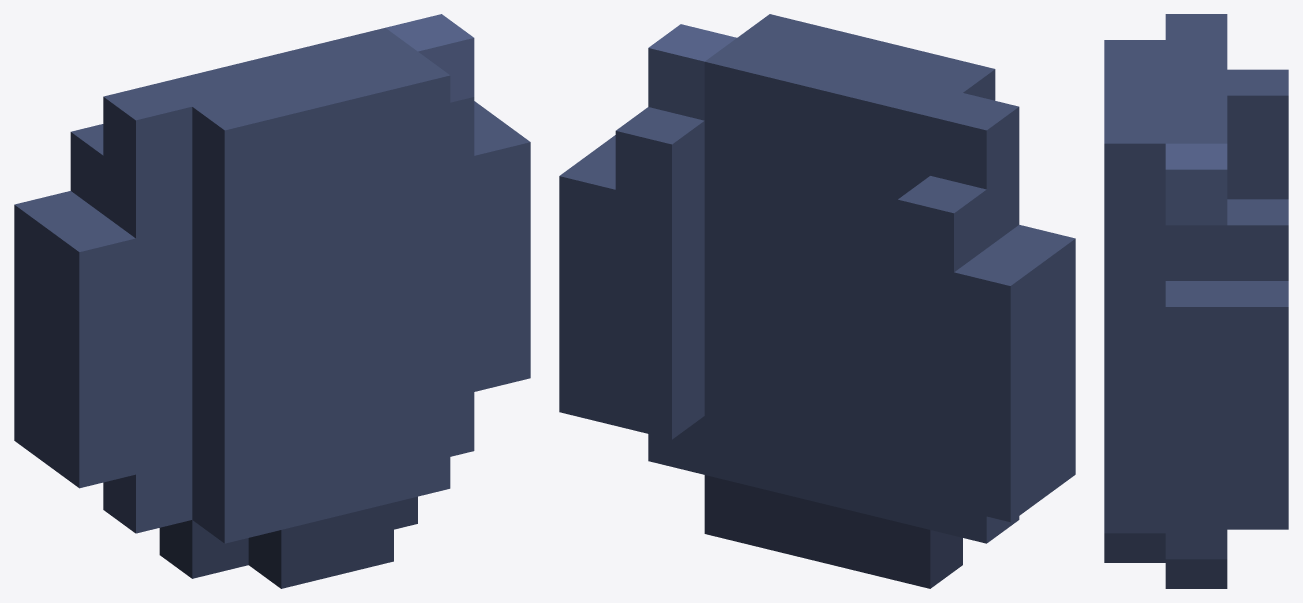
The model's file is mat_abyssal_scale_lod1.glb.
3 renders of one model, left to right at view 1: azimuth 30°, elevation 25°; view 2: azimuth 150°, elevation 25°; view 3: azimuth 270°, elevation 25°, orthographic. The views are drawn at different scales.
Parts seen in each view (by area): view 1: mat_abyssal_scale_lod1; view 2: mat_abyssal_scale_lod1; view 3: mat_abyssal_scale_lod1.
Part boxes in pixels (box(x1,y1,x2,y2)): mat_abyssal_scale_lod1: box(14, 14, 530, 588); mat_abyssal_scale_lod1: box(559, 14, 1075, 588); mat_abyssal_scale_lod1: box(1104, 14, 1288, 588).
Size of the model in its own units: 0.192 by 0.192 by 0.072.
